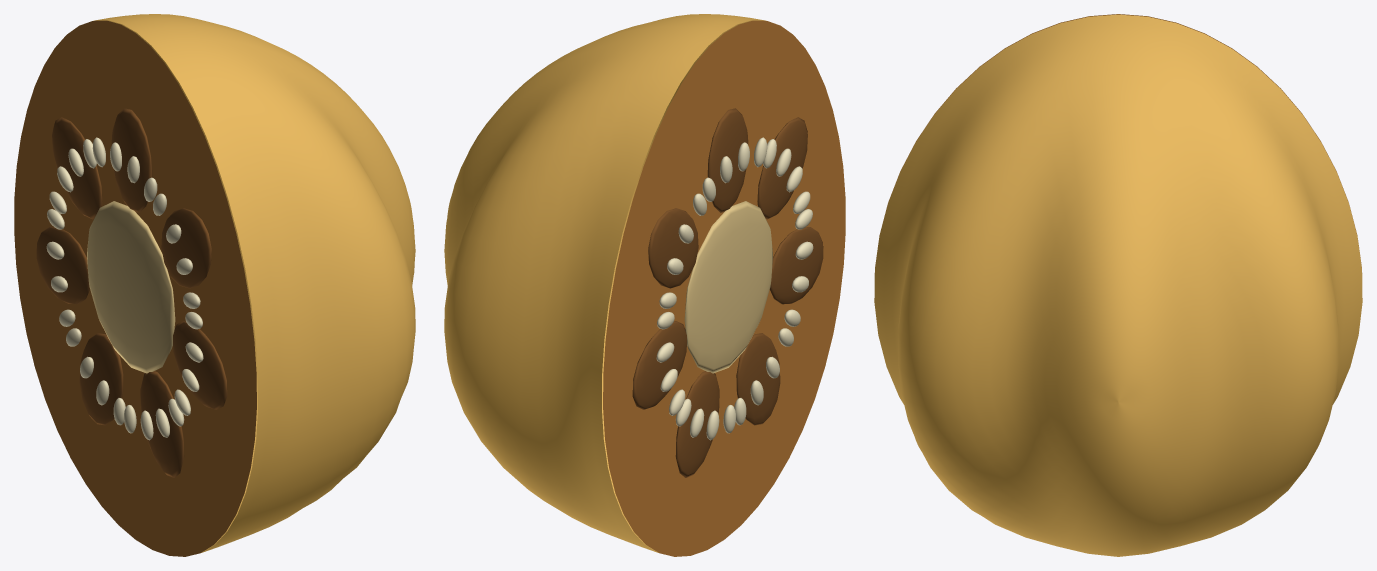
The model's file is event_golden_half.glb.
3 renders of one model, left to right at view 1: azimuth 30°, elevation 25°; view 2: azimuth 150°, elevation 25°; view 3: azimuth 270°, elevation 25°, orthographic.
Visible parts, largest first — view 1: Prepared right half, Cut flesh, Pale central core, Seed chamber.001, Seed chamber.002, Seed chamber.005, Seed chamber, Seed chamber.004, Seed chamber.003, Seed chamber.006; view 2: Prepared right half, Cut flesh, Pale central core, Seed chamber.006, Seed chamber.005, Seed chamber.002, Seed chamber, Seed chamber.003, Seed chamber.004, Seed chamber.001; view 3: Prepared right half, Cut flesh.
Part boxes in pixels (<box>): Prepared right half: <box>93,14,415,552</box>; Cut flesh: <box>14,20,256,556</box>; Pale central core: <box>87,201,175,373</box>; Seed chamber.001: <box>161,208,211,288</box>; Seed chamber.002: <box>173,321,227,409</box>; Seed chamber.005: <box>36,227,89,304</box>; Seed chamber: <box>111,108,152,212</box>; Seed chamber.004: <box>79,333,123,425</box>; Seed chamber.003: <box>140,371,184,477</box>; Seed chamber.006: <box>52,117,102,219</box>; Prepared right half: <box>444,14,766,552</box>; Cut flesh: <box>603,20,845,556</box>; Pale central core: <box>684,201,772,373</box>; Seed chamber.006: <box>648,208,698,288</box>; Seed chamber.005: <box>632,321,686,409</box>; Seed chamber.002: <box>770,227,823,304</box>; Seed chamber: <box>707,108,748,212</box>; Seed chamber.003: <box>736,333,780,425</box>; Seed chamber.004: <box>675,371,719,477</box>; Seed chamber.001: <box>757,117,807,219</box>; Prepared right half: <box>874,14,1362,556</box>; Cut flesh: <box>874,14,1362,298</box>.
Size of the model in its own units: 0.7155 by 1.2 by 1.04.
